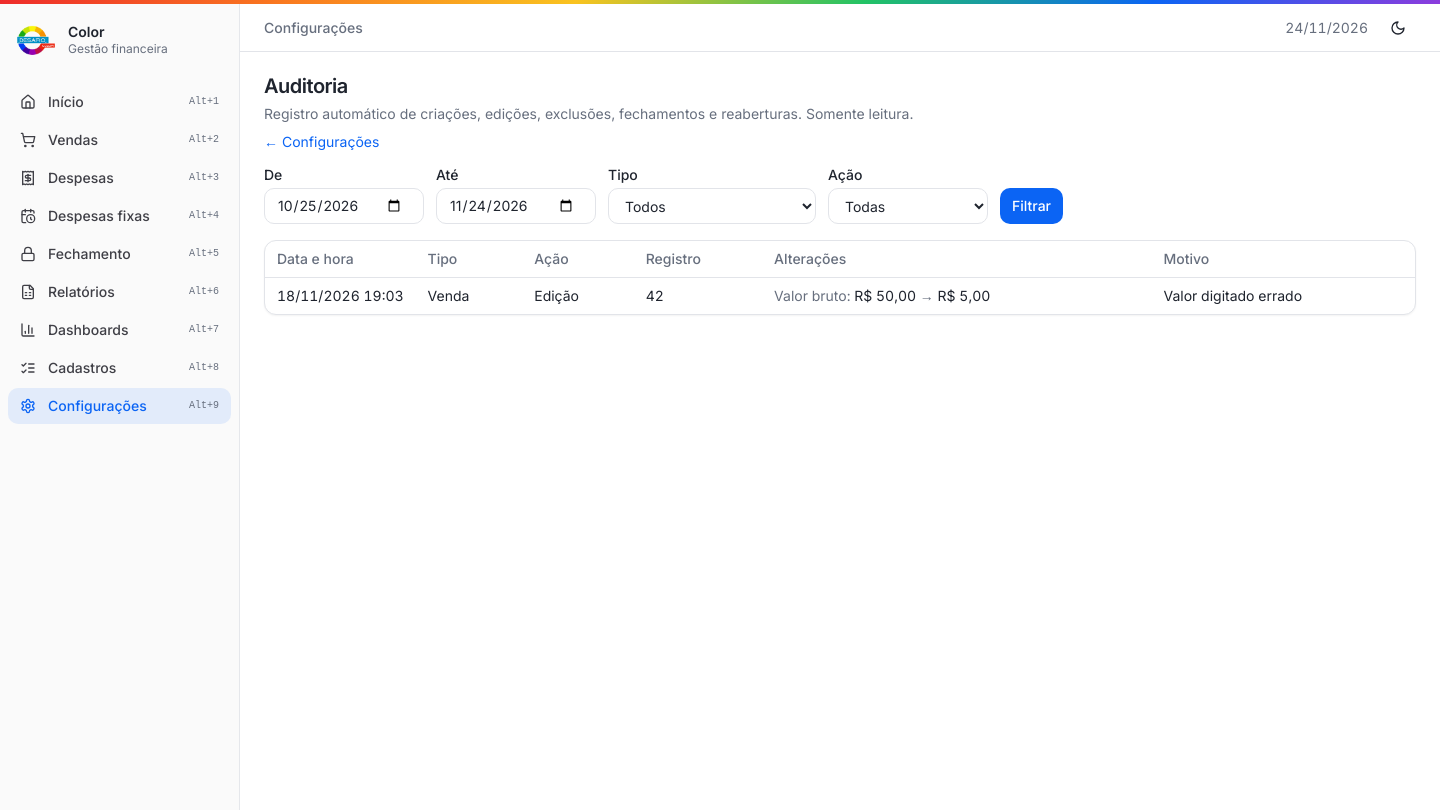
Scenario: Auditoria page (FR-18) › FR-18: shows a pt-BR message when the start date is after the end date
The width and height of the screenshot is (1440, 810).
Check: the text "R$ 50,00" is shown, box top-left (854, 286), bottom-right (916, 304)
In the date field labelled "De": {"x": 344, "y": 206} top-left (264, 188), bottom-right (424, 224), type "2026-11-19"
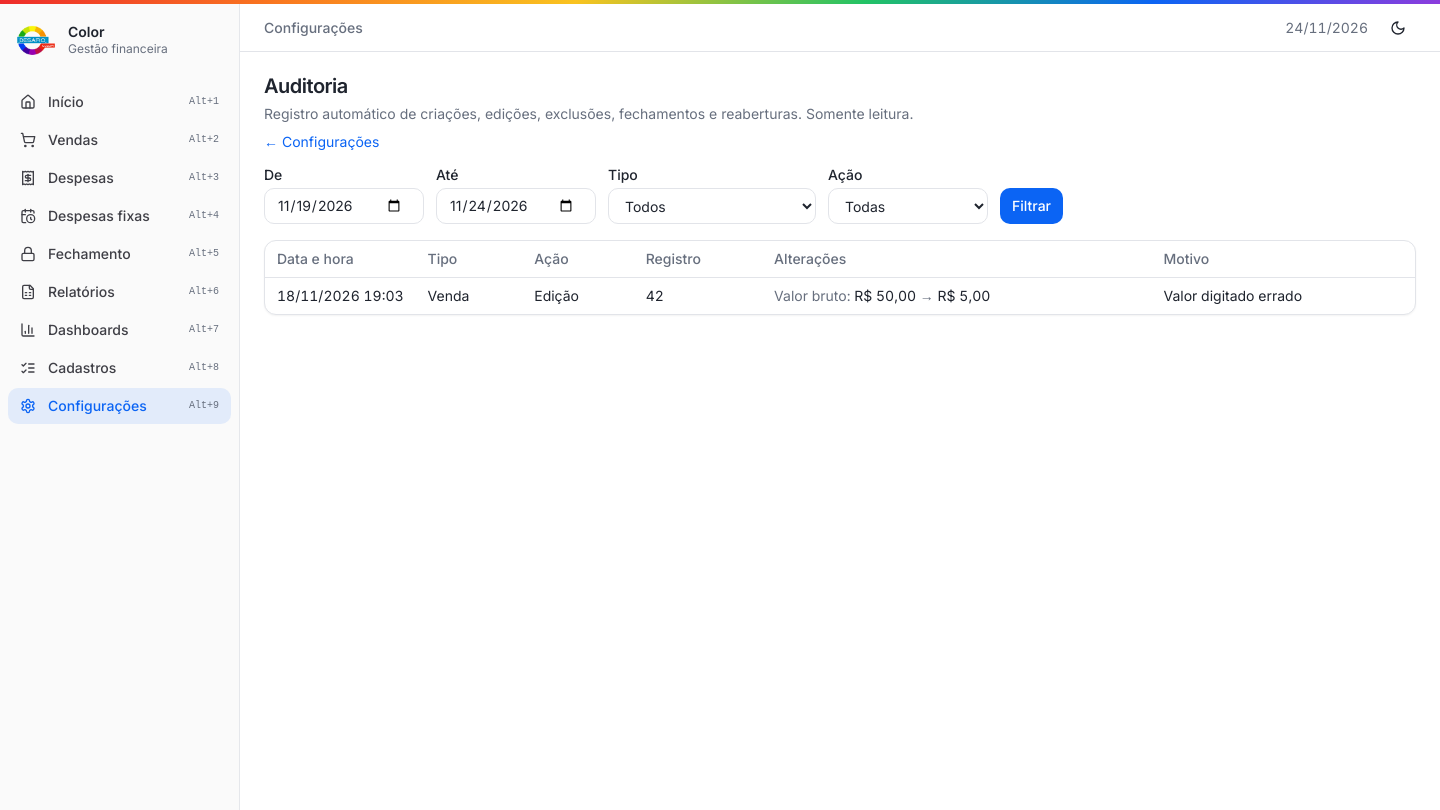
In the date field labelled "Até": {"x": 516, "y": 206} top-left (436, 188), bottom-right (596, 224), type "2026-11-18"
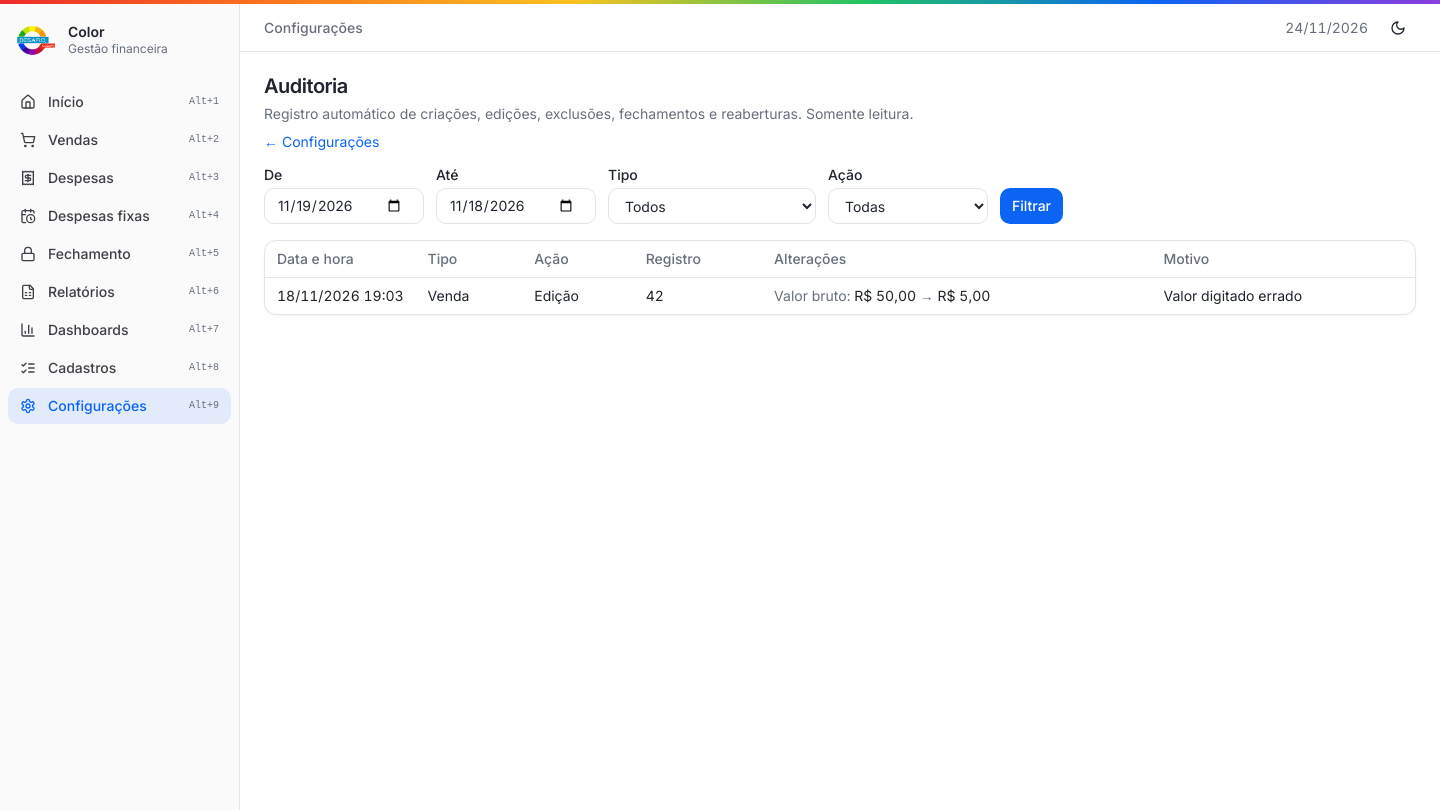
Click the button "Filtrar": {"x": 1032, "y": 206} top-left (1000, 188), bottom-right (1063, 224)
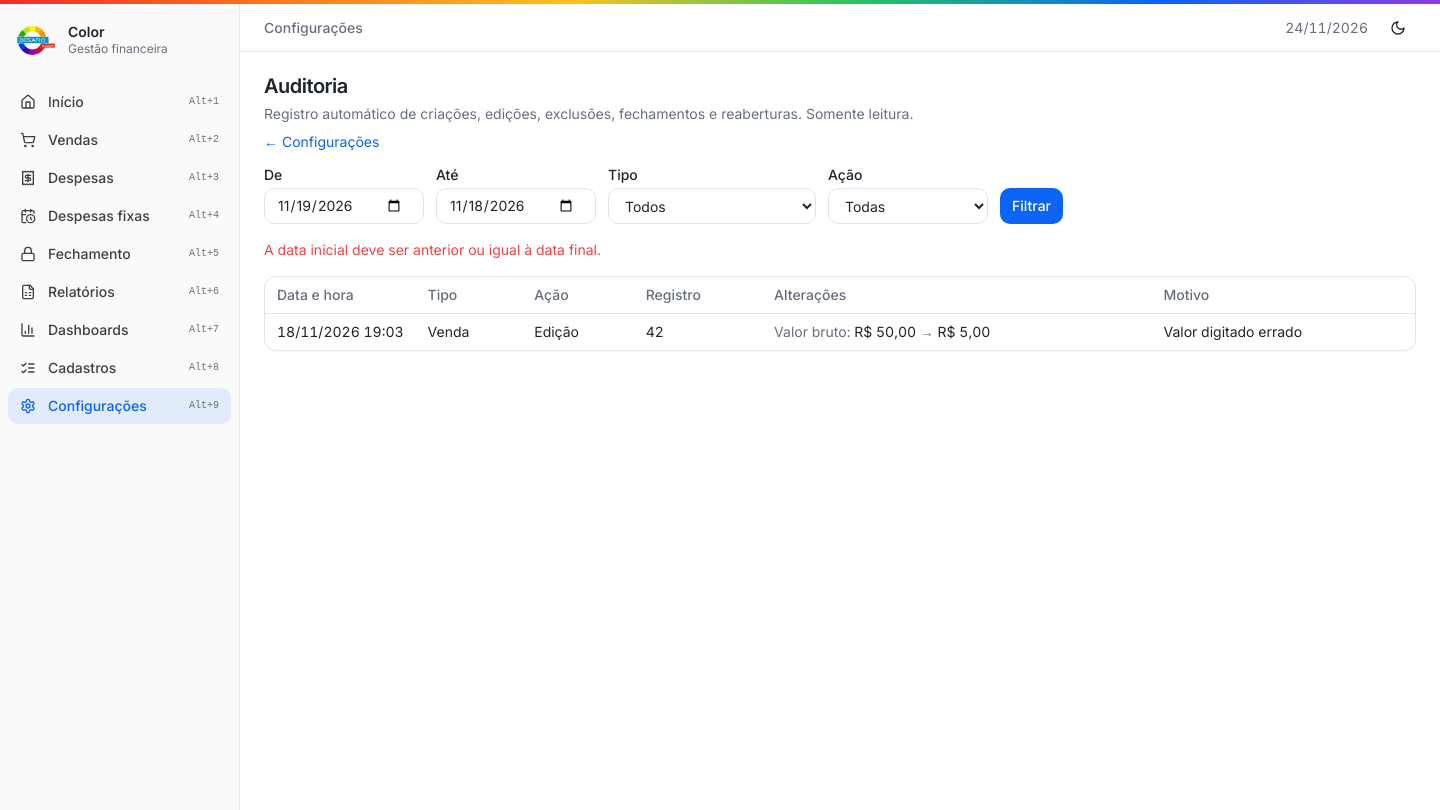
Check: the text "A data inicial deve ser anterior ou igual à data final." is shown, box top-left (264, 241), bottom-right (601, 258)
